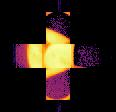earth: (27, 27, 74, 79)
